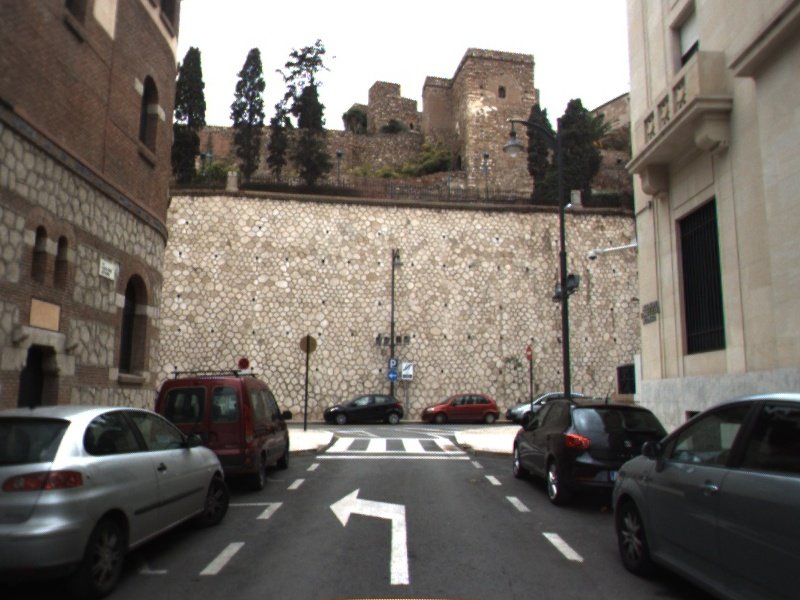LEFT: (326, 484, 413, 587)
